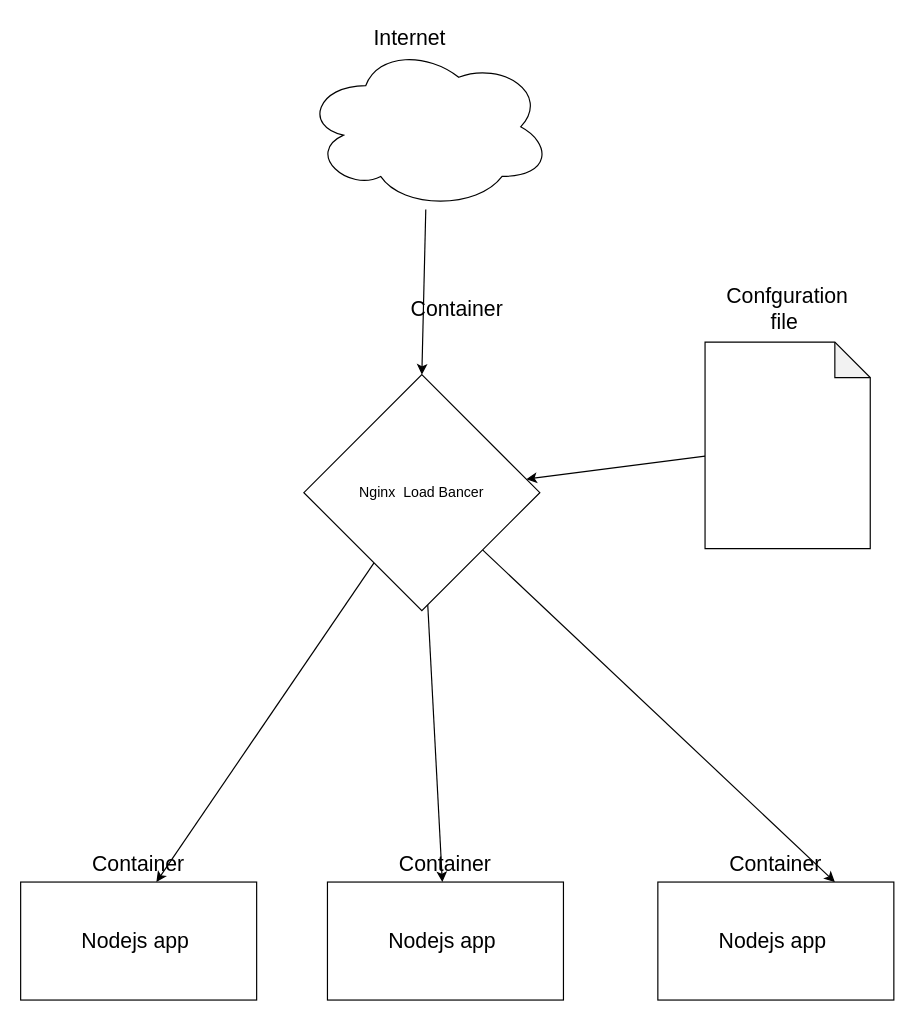
The diagram is 914 pixels wide and 1021 high, and some of its shapes have lost their labels. Here are the shapes that lost their labels. From the top down, the centre of each, then its label:
At (427,126): "HTTP:".
At (787,445): "Nginc Conf file for dist".
